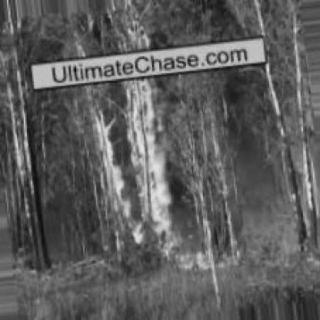Fire: (85, 0, 187, 257)
